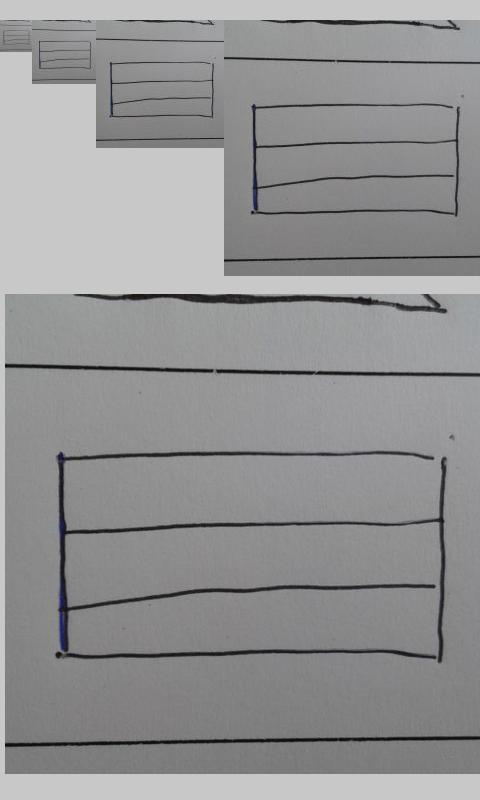list_view: (53, 448, 450, 666), (250, 102, 462, 218), (109, 61, 215, 119), (37, 39, 93, 70), (2, 29, 31, 46)
